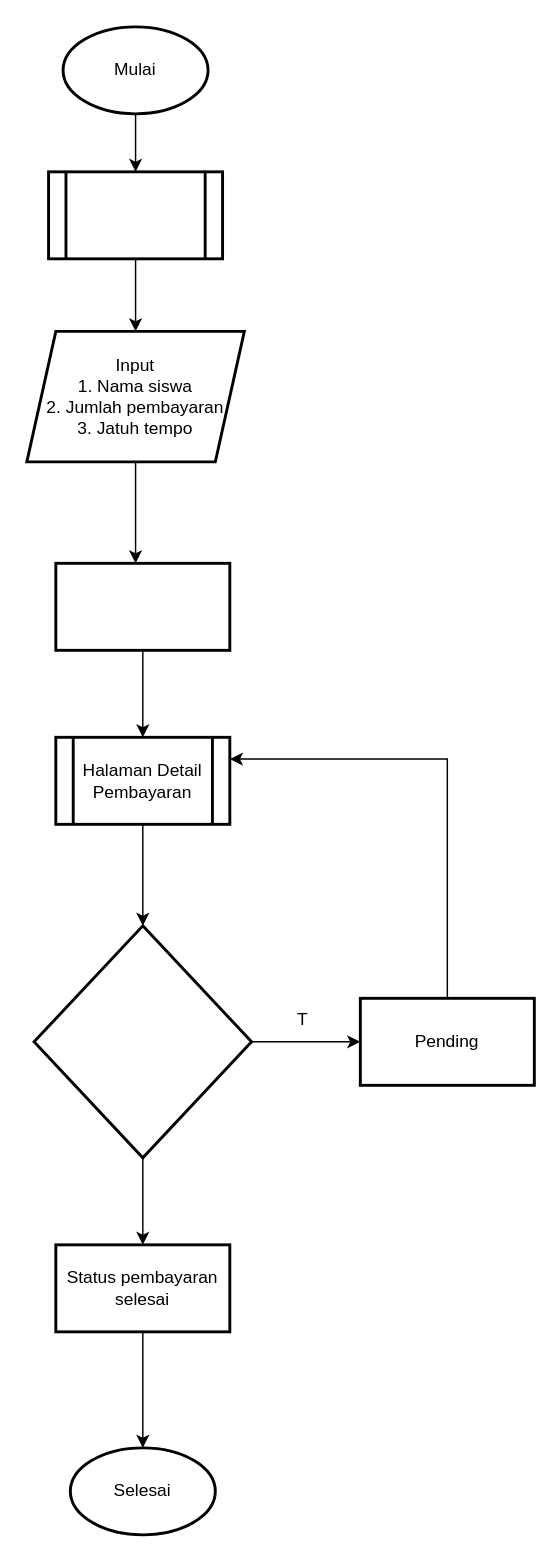
Some shapes in this 560 by 1560 pixel diagram are drawn without their labels. The centre of each missing label's shape, as x and y in pixels:
Apakah jumlah pembayaran sama dengan total tagihan: [142,1041]
Halaman tambah pembayaran: [134,215]
Kirim notifikasi tagihan: [142,606]
